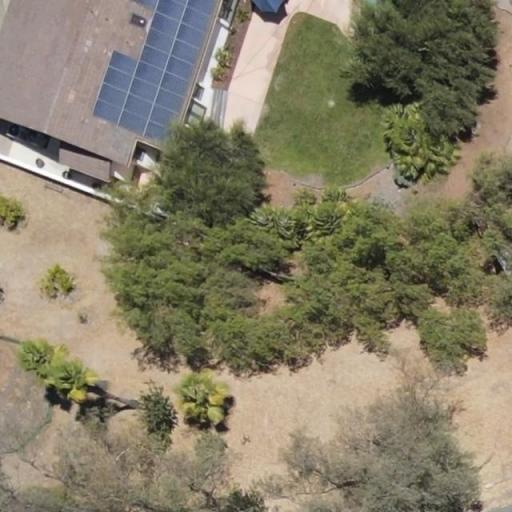solar-panel: (90, 0, 219, 149)
